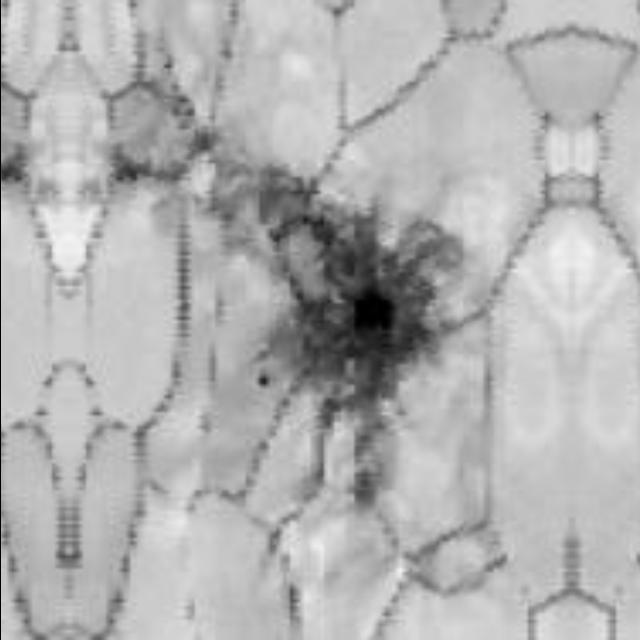good_void: (213, 164, 465, 509), (104, 144, 149, 192), (165, 78, 201, 132), (0, 144, 32, 192), (193, 127, 221, 162)
